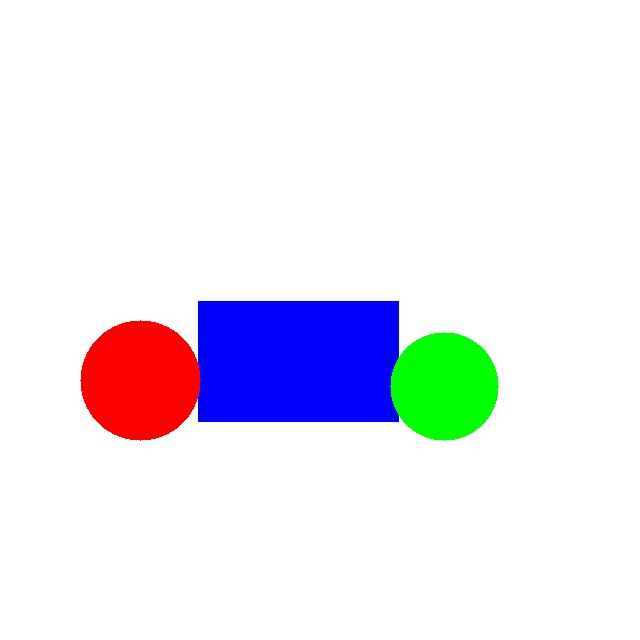cartao: (198, 301, 398, 421)
rosca_externa: (390, 332, 498, 440)
rosca_interna: (80, 320, 200, 440)
